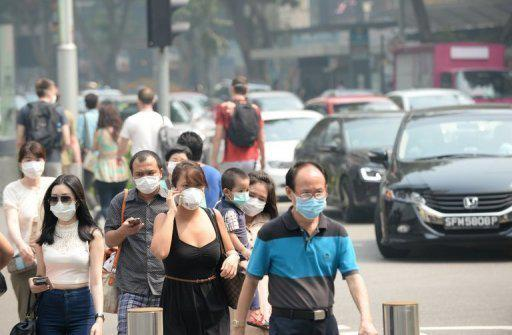OK: (295, 185, 327, 220), (178, 181, 206, 210), (133, 168, 161, 196), (242, 190, 270, 217), (52, 194, 78, 222), (21, 153, 47, 179), (170, 157, 189, 178), (229, 187, 250, 206)
